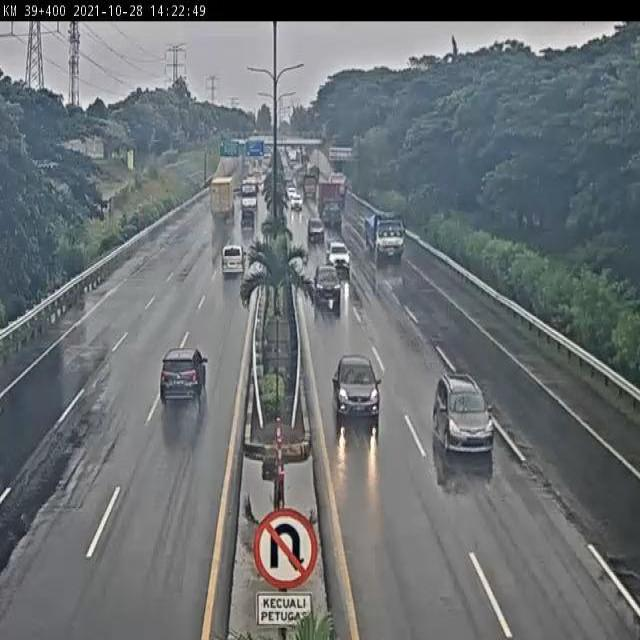car: (432, 371, 496, 461), (331, 352, 386, 425), (160, 346, 211, 406)
truck-l-: (366, 209, 405, 263)
